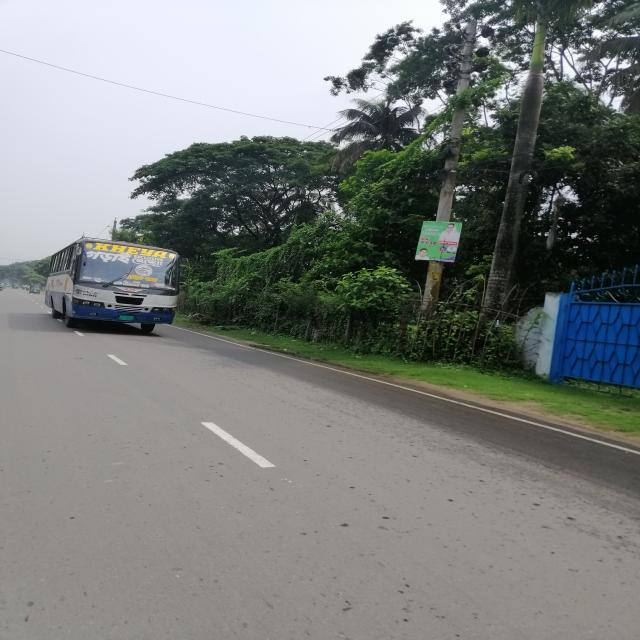Bus: (67, 236, 191, 347)
